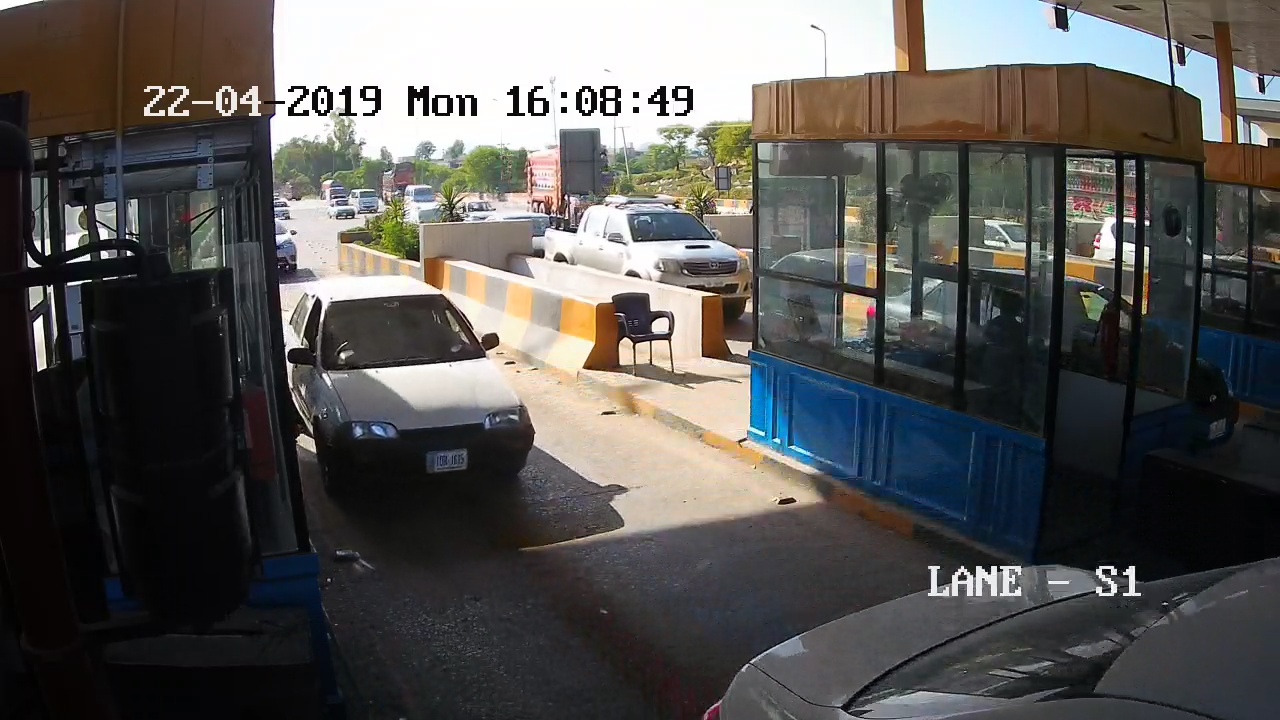Number Plate (Car): (425, 449, 469, 472)
